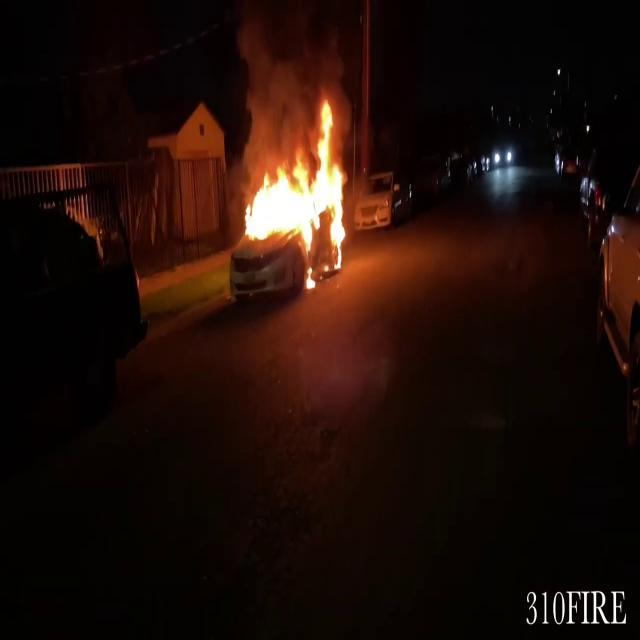Fire: (238, 93, 355, 281)
Smoke: (230, 0, 352, 139)
